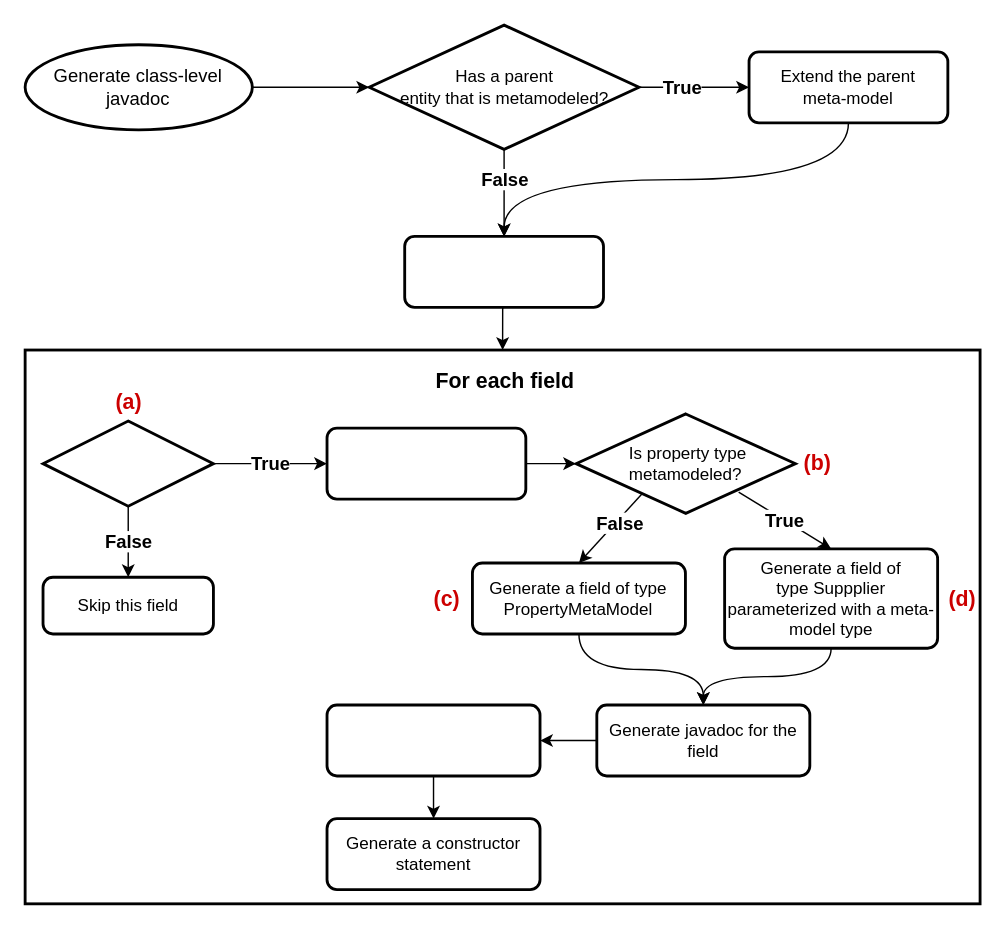
Some shapes in this 1008 by 930 pixel diagram are drawn without their labels. Each missing label, with the centre of its shape:
"Find all fields of an underlying entity" belongs at point (503, 271).
"Generate a getter method" belongs at point (433, 740).
"Generate a static constant field storing the name of the property" belongs at point (426, 463).
"Is property?" belongs at point (127, 463).
